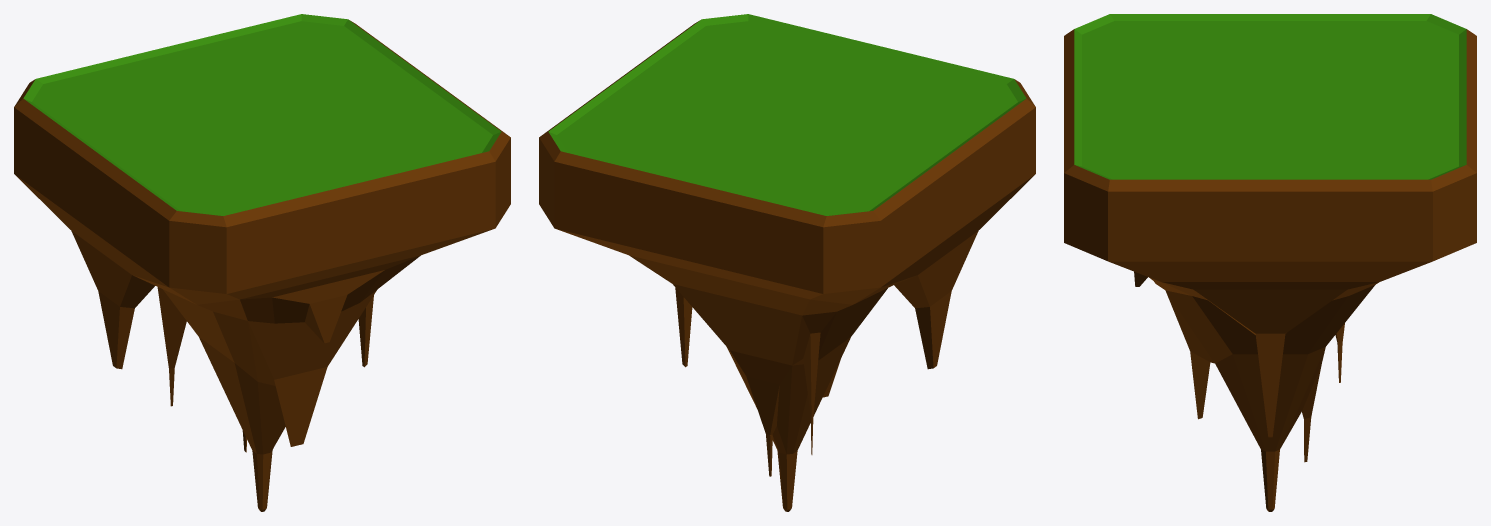
The model's file is Tile.fbx.
3 views of the same model, side by side, from view 1: azimuth 30°, elevation 25°; view 2: azimuth 150°, elevation 25°; view 3: azimuth 270°, elevation 25° (orthographic). The views are drawn at different scales.
Parts seen in each view (by area): view 1: Tile; view 2: Tile; view 3: Tile.
Boxes of the visible parts, bbox=[...] form: Tile: bbox=[14, 14, 510, 511]; Tile: bbox=[539, 14, 1035, 511]; Tile: bbox=[1064, 14, 1476, 511].
Bounding box in the file's own units: 200 × 221 × 200.
